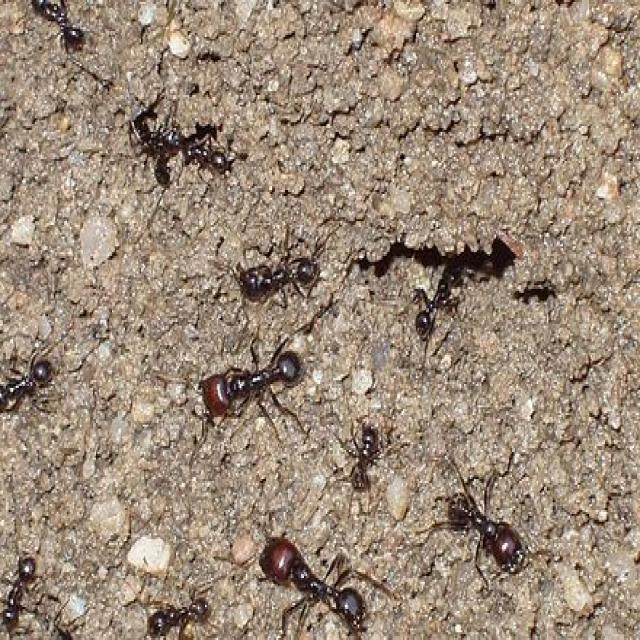ants: (247, 510, 371, 637), (434, 463, 526, 582), (193, 345, 301, 422), (232, 241, 316, 302), (146, 578, 220, 640), (0, 551, 48, 640), (338, 412, 382, 490)
